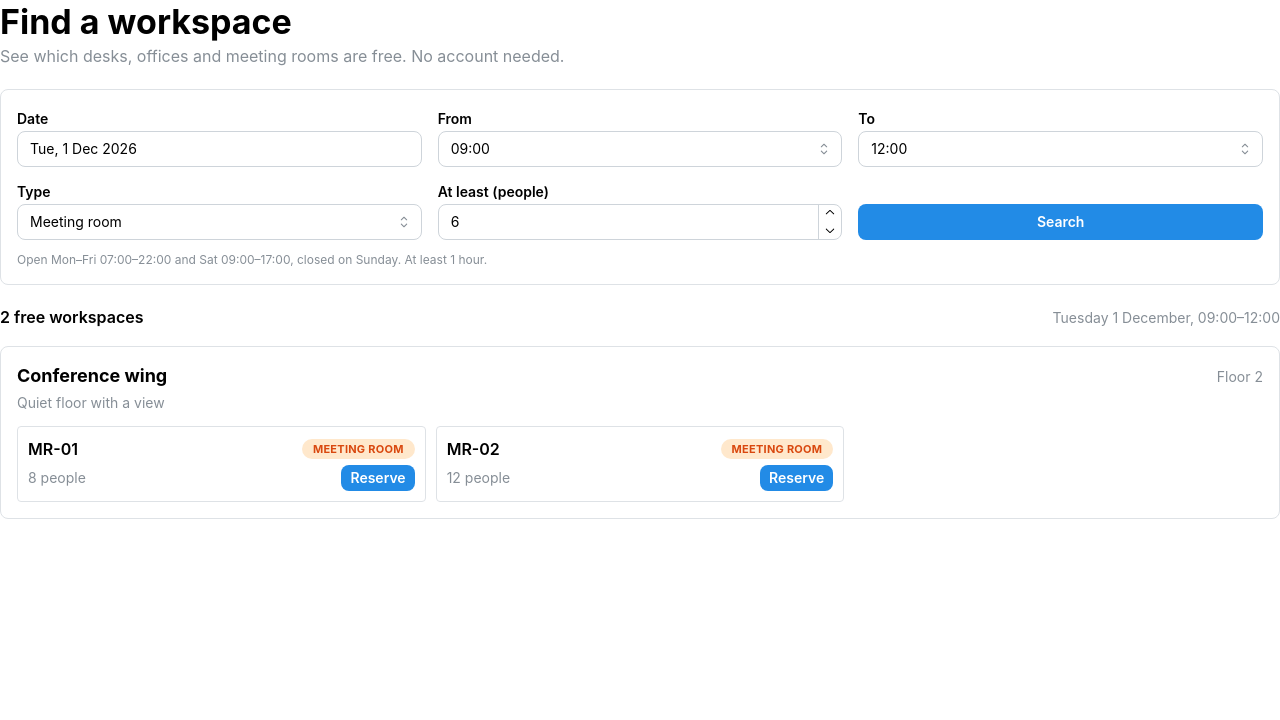
Scenario: AvailabilityPage › lets a member reserve a workspace and shows the confirmation
Click the button with aria-label "Reserve MR-01". click: (378, 478)
box: top-left (341, 465), bottom-right (415, 491)
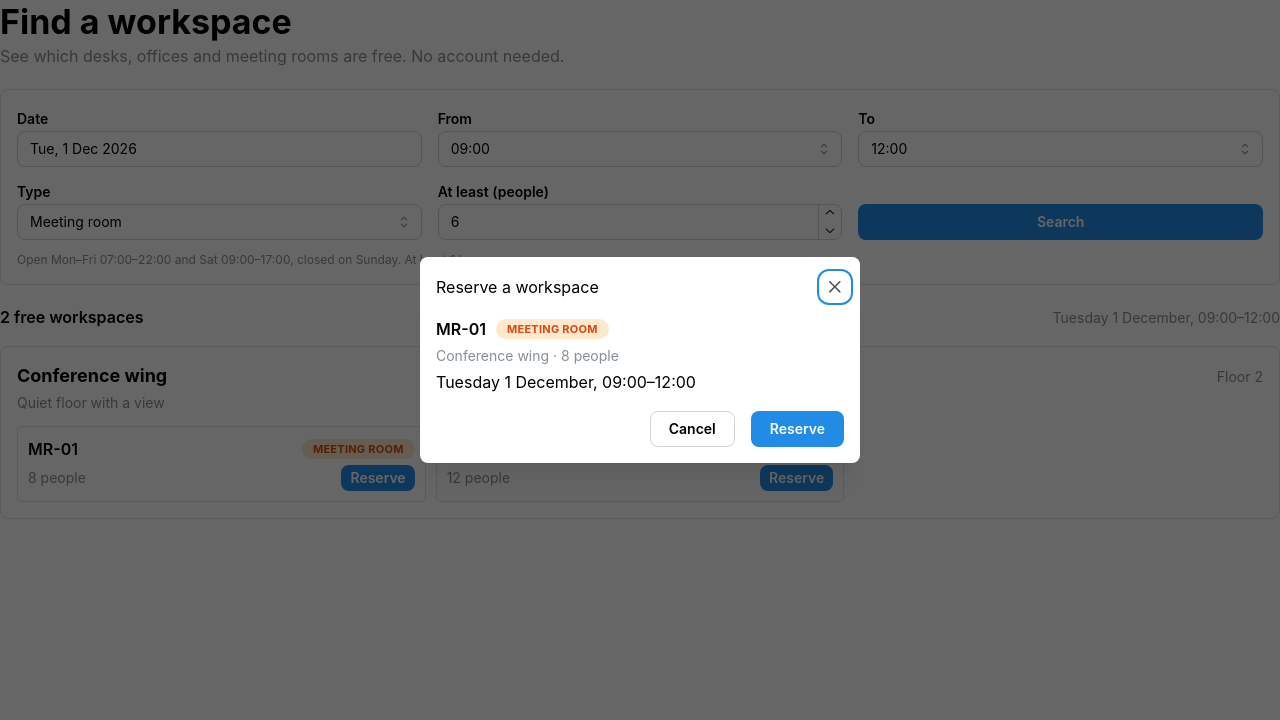
Click the button "Reserve". click: (797, 429)
box: top-left (751, 411), bottom-right (844, 447)
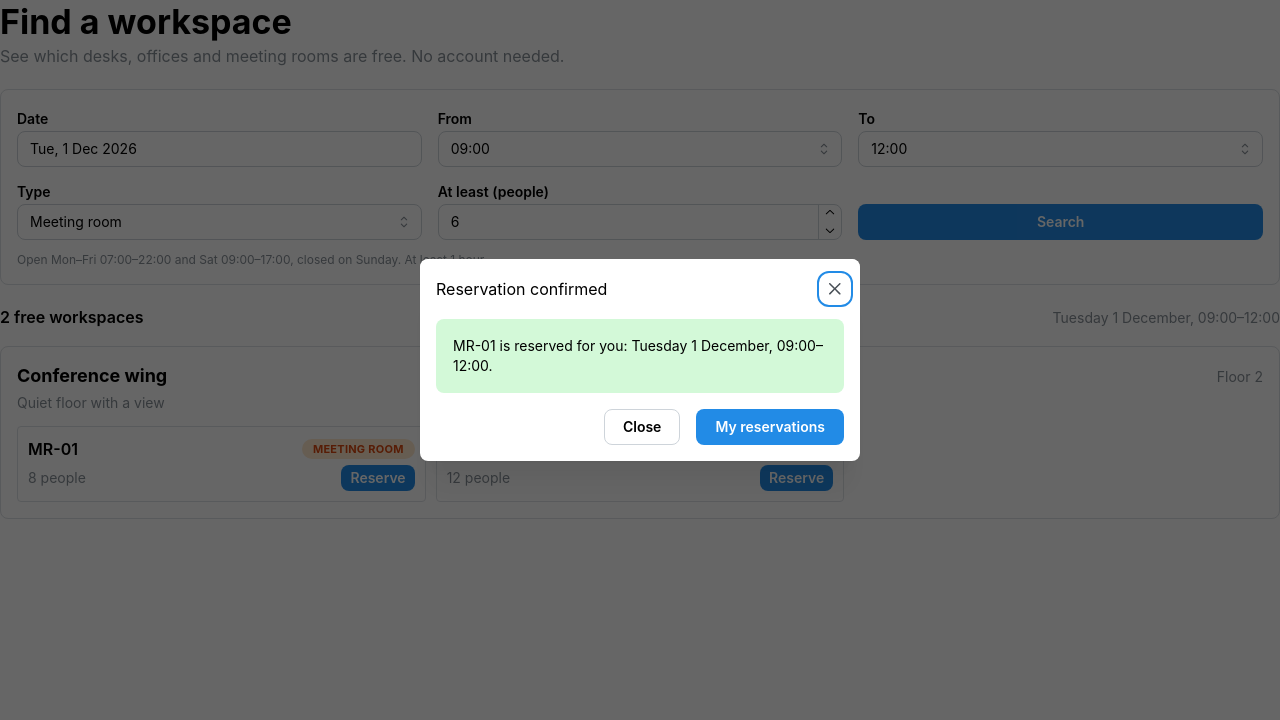
Result: the text "MR-01 is reserved for you: Tuesday 1 December, 09:00–12:00." is shown at top-left (453, 336), bottom-right (827, 376)
